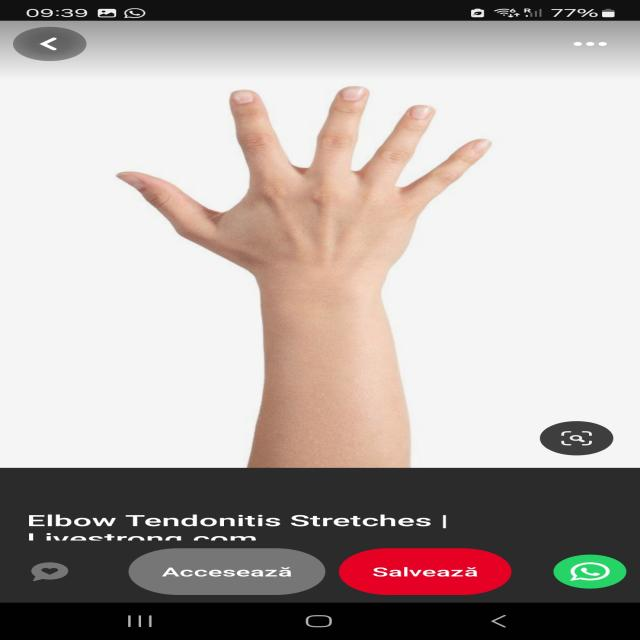hands: (65, 64, 569, 312)
